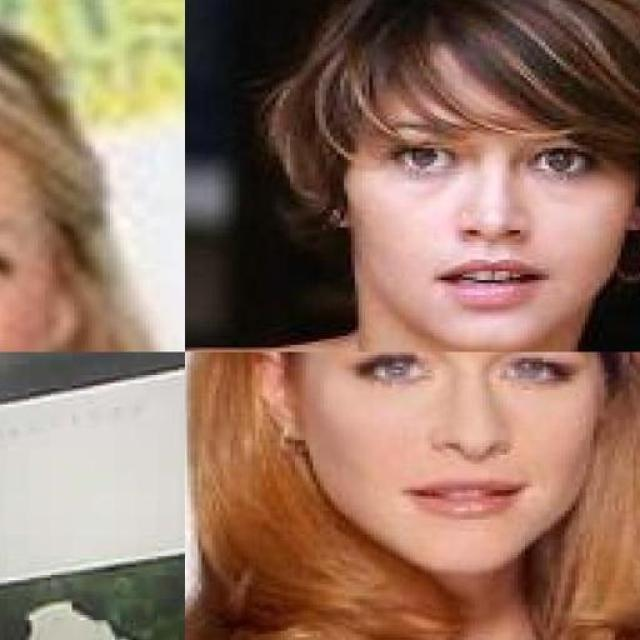bareface: (297, 8, 625, 340), (286, 359, 614, 590)
